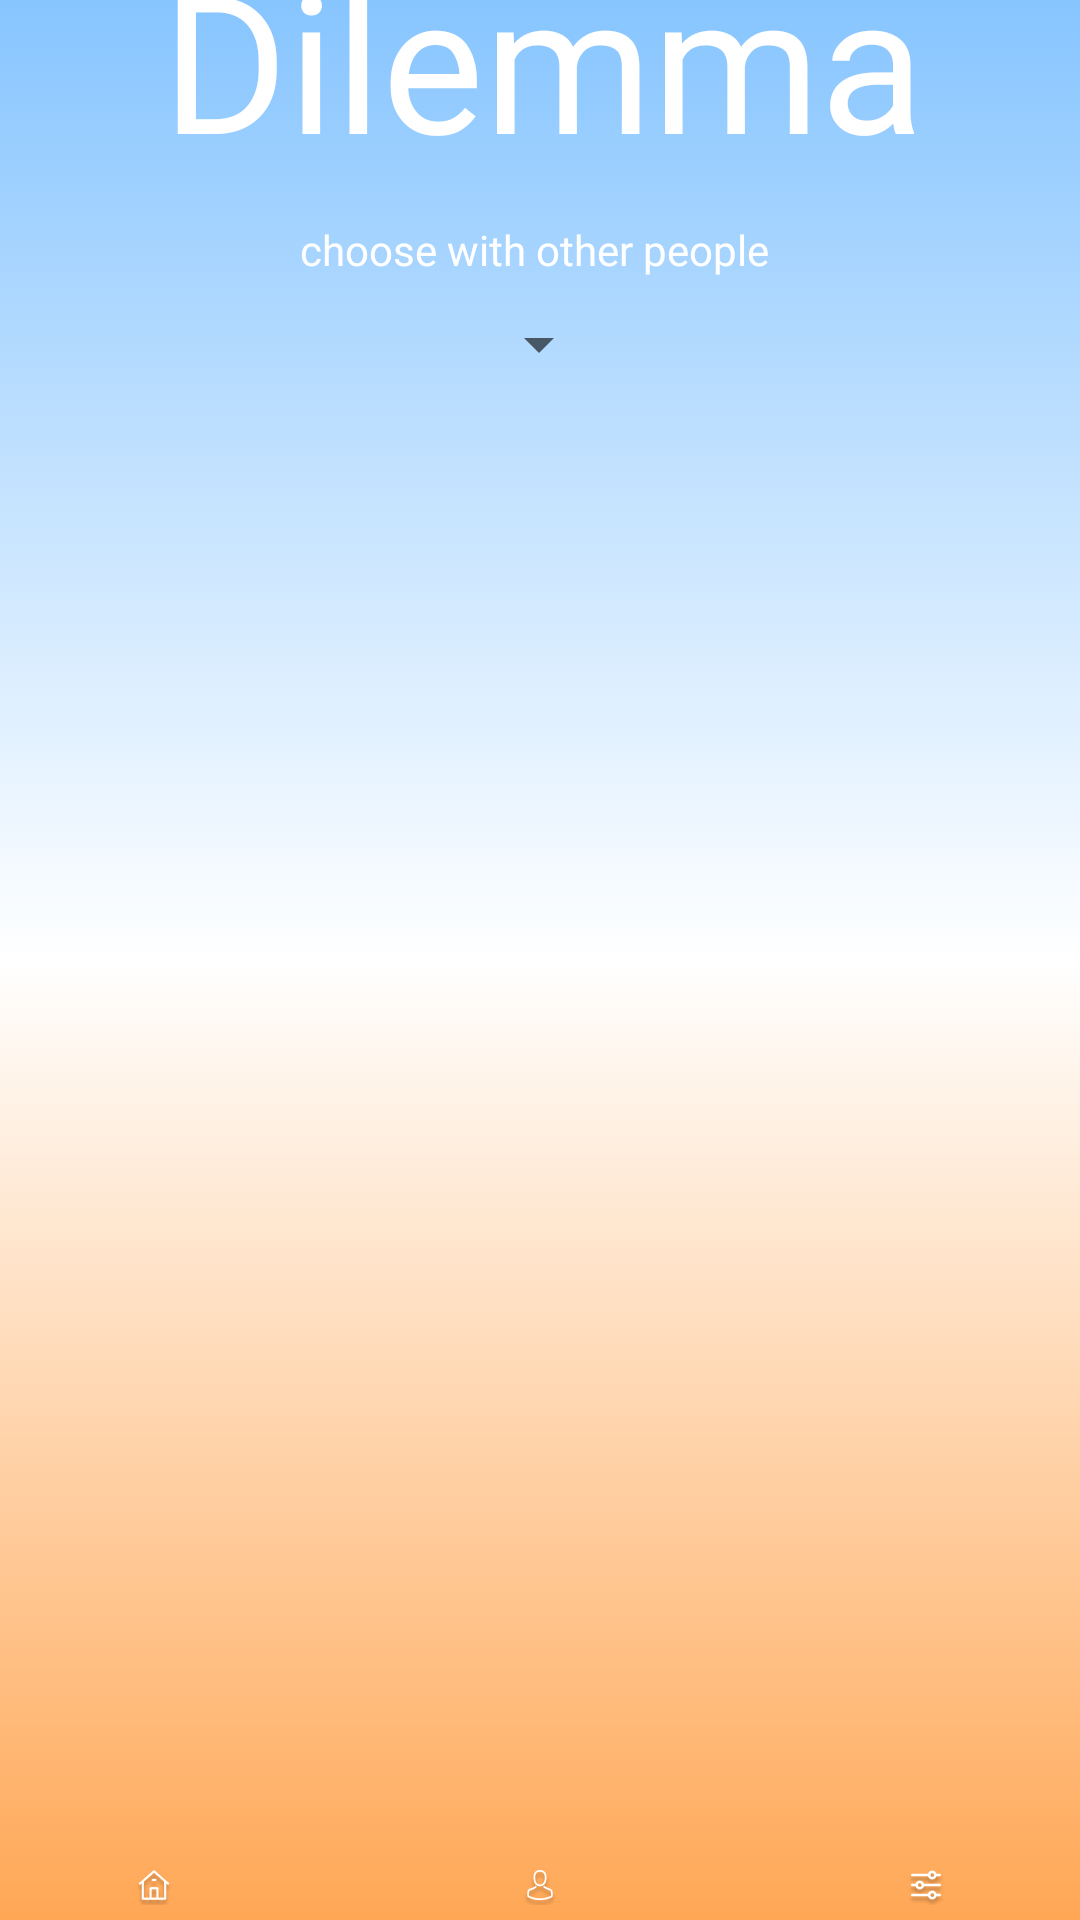

Named icons in this screenshot (1080px×1920px) and their bounding boxes, (x1=x1, y1=y1, x2=x2, y2=y2):
Home: (x1=139, y1=1870, x2=169, y2=1904)
Profile: (x1=527, y1=1870, x2=553, y2=1904)
Settings: (x1=911, y1=1870, x2=941, y2=1903)
